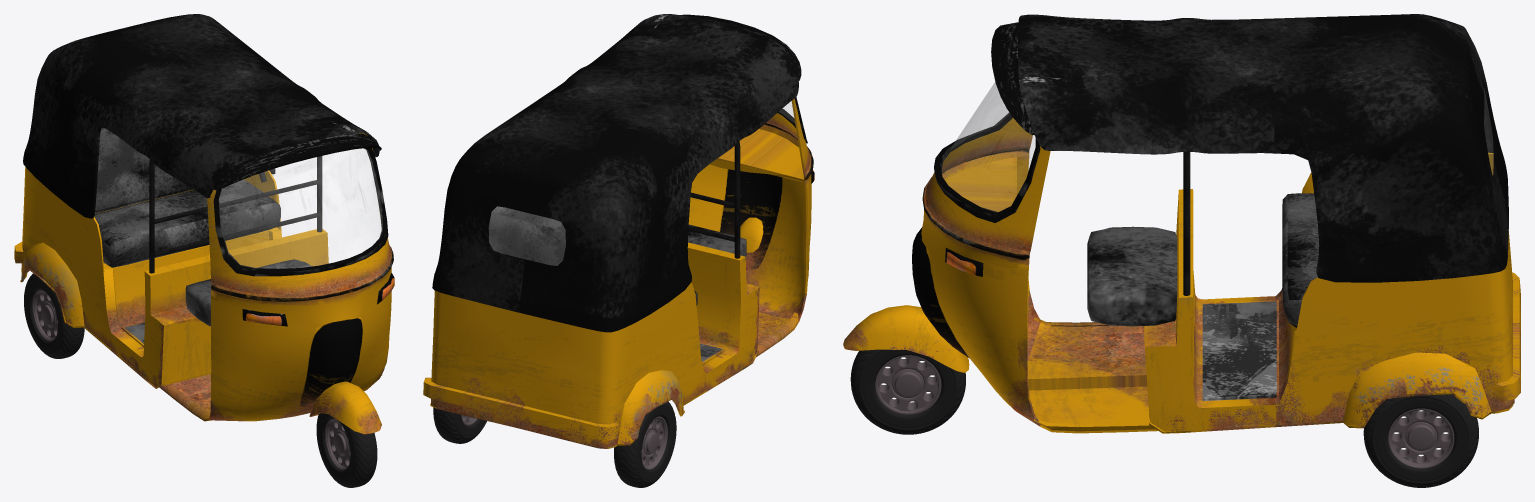
The model's file is keke-8.glb.
3 renders of one model, left to right at view 1: azimuth 30°, elevation 25°; view 2: azimuth 150°, elevation 25°; view 3: azimuth 270°, elevation 25°, orthographic. The views are drawn at different scales.
Visible parts, largest first — view 1: Plane.001, Plane.002, Plane.003, Rin, Rin.001; view 2: Plane.002, Plane.001, Rin.001, Plane.003; view 3: Plane.002, Plane.001, Rin.001, Rin, Plane.003.
Part boxes in pixels (x1,y1,x2,y2): Plane.001: [14, 133, 394, 434]; Plane.002: [23, 14, 379, 326]; Plane.003: [219, 148, 382, 268]; Rin: [316, 413, 377, 487]; Rin.001: [24, 273, 84, 358]; Plane.002: [432, 14, 798, 332]; Plane.001: [423, 14, 814, 448]; Rin.001: [433, 401, 676, 487]; Plane.003: [489, 101, 794, 265]; Plane.002: [1018, 14, 1508, 327]; Plane.001: [843, 22, 1520, 433]; Rin.001: [1363, 394, 1478, 487]; Rin: [850, 349, 965, 434]; Plane.003: [941, 82, 1493, 212].
Bounding box in the file's own units: 1.24 × 1.82 × 2.89.
Materials: 5 (3 with a texture image).
